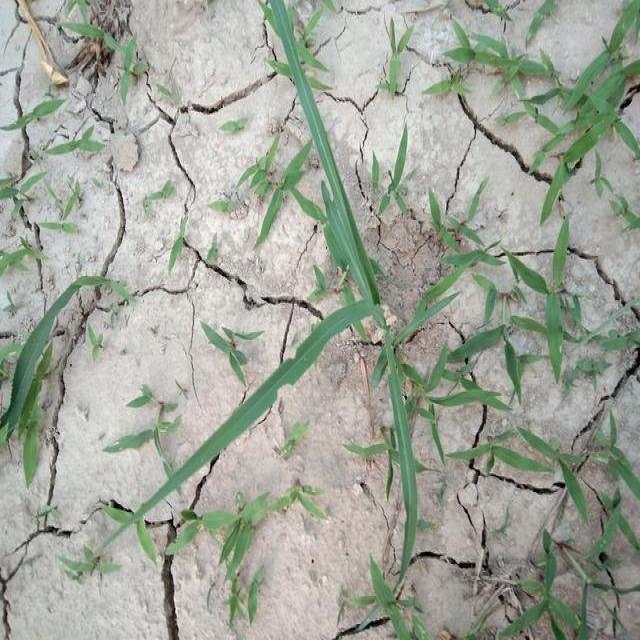weed: (306, 63, 432, 529), (415, 175, 531, 425), (476, 42, 628, 184), (476, 432, 632, 510), (6, 299, 66, 457), (236, 134, 324, 228), (536, 213, 580, 378), (519, 541, 581, 640)
